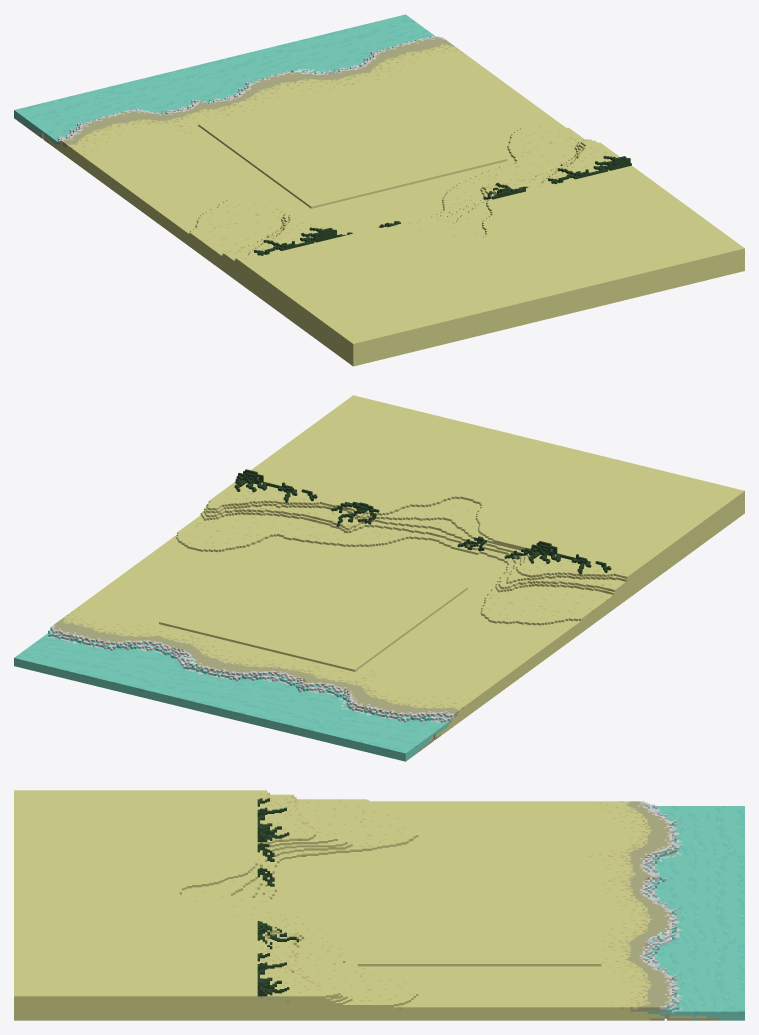
The model's file is Beach_World.fbx.
3 renders of one model, top to bottom at view 1: azimuth 30°, elevation 25°; view 2: azimuth 150°, elevation 25°; view 3: azimuth 270°, elevation 25°, orthographic. The views are drawn at different scales.
Visible parts, largest first — view 1: Union; view 2: Union; view 3: Union.
Boxes of the visible parts, bbox=[...] form: Union: bbox=[14, 14, 744, 366]; Union: bbox=[14, 395, 744, 761]; Union: bbox=[14, 790, 744, 1020].
Bounding box in the file's own units: 200 × 16 × 300.
